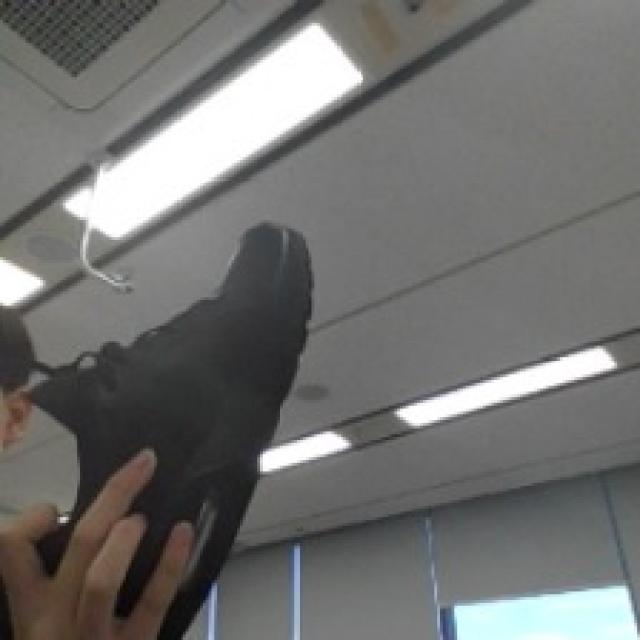shoe: (16, 193, 355, 637)
